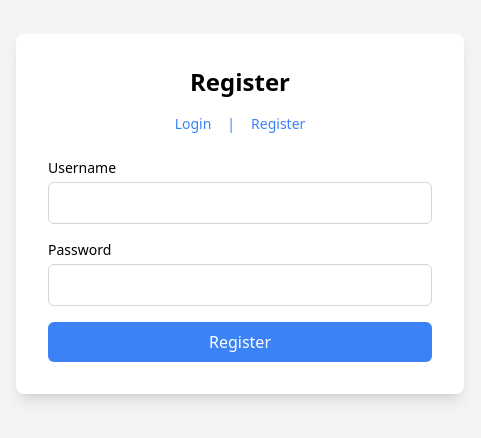
Test: successful registration shows success message
Username and password entry.
In the field labelled "Username": (240, 203) 48,182 -> 432,224, type "newuser"
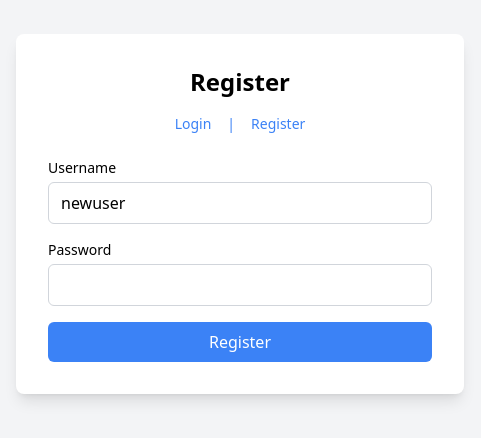
In the password field labelled "Password": (240, 285) 48,264 -> 432,306, type "password"
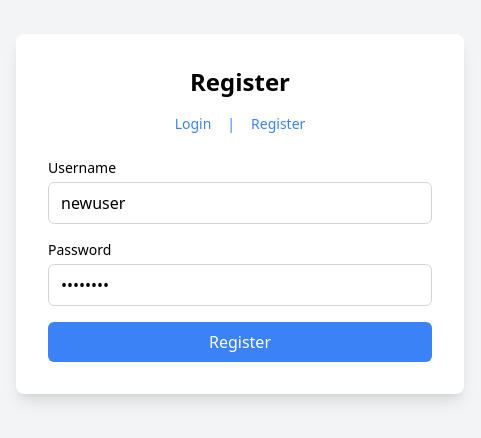
Submit the form.
Click the button "Register": (240, 342) 48,322 -> 432,362
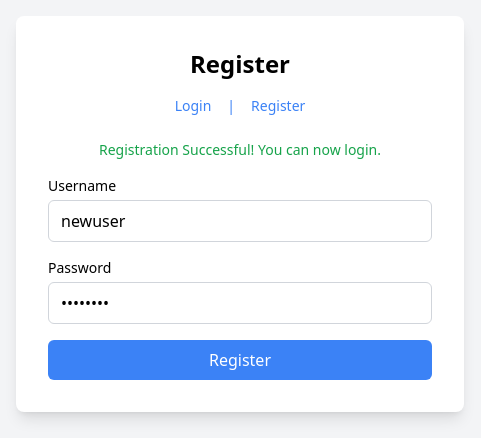
Expected: the text "Registration Successful! You can now login." is shown, 99,140 -> 381,159
